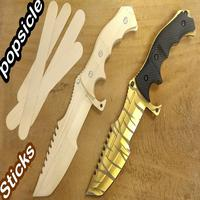knife: (84, 8, 192, 198), (28, 8, 135, 198)
